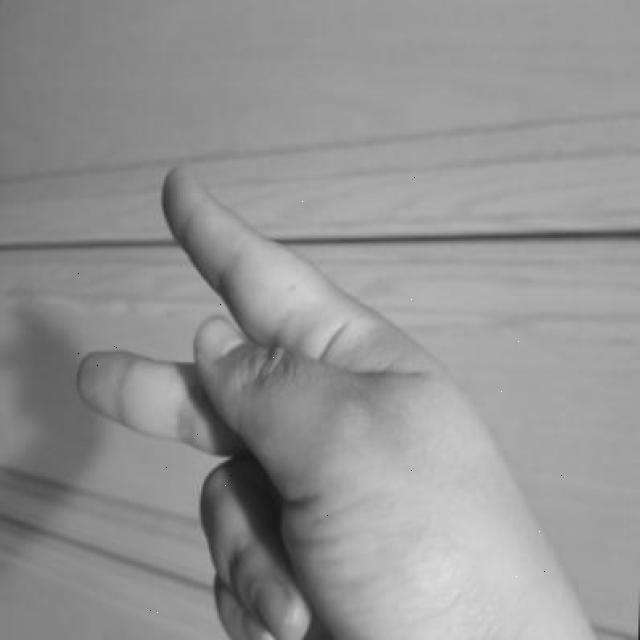P: (59, 148, 563, 638)
